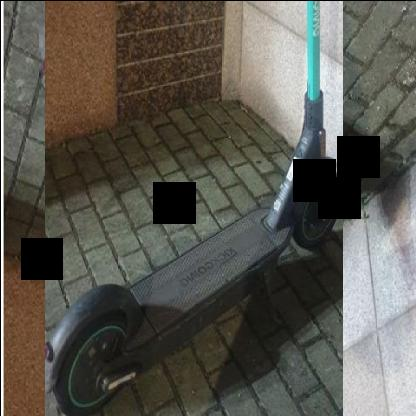kickboard: (44, 0, 342, 416)
